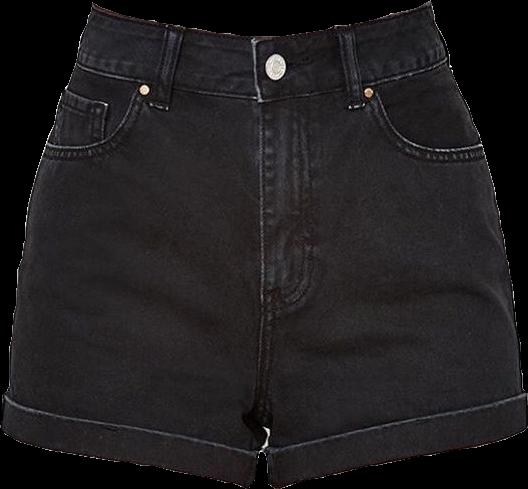Hemline: (270, 425, 527, 488), (0, 426, 248, 487)
Pantleg: (251, 0, 527, 487), (2, 3, 261, 486)
Waistline: (73, 54, 449, 98), (2, 392, 258, 454), (268, 391, 527, 452), (89, 0, 428, 40)
